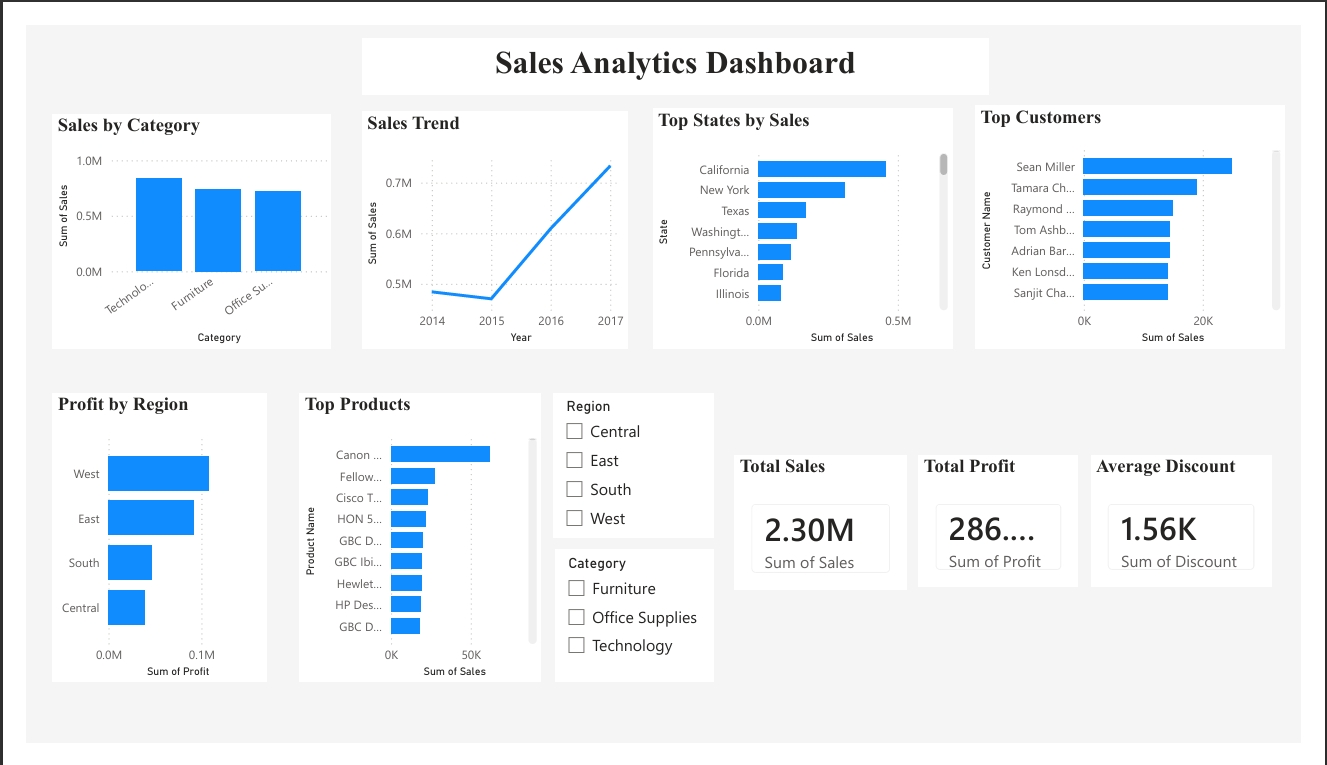

This screenshot's page, from the dashboard's own definition file:
{"tool":"powerbi","page":{"name":"Page 1","canvas":[1280,720],"ordinal":0},"visuals":[{"type":"clusteredColumnChart","title":"Sales by Category","fields":{"Category":["cleaned_superstore.Category"],"Y":["Sum(cleaned_superstore.Sales)"]},"box":[25.7,88.6,280,235.7],"z":0},{"type":"barChart","title":"Profit by Region","fields":{"Category":["cleaned_superstore.Region"],"Y":["Sum(cleaned_superstore.Profit)"]},"box":[25.7,368.6,215.7,290],"z":1},{"type":"lineChart","title":"Sales Trend","fields":{"Category":["cleaned_superstore.Order Date.Variation.Date Hierarchy.Year","cleaned_superstore.Order Date.Variation.Date Hierarchy.Quarter","cleaned_superstore.Order Date.Variation.Date Hierarchy.Month","cleaned_superstore.Order Date.Variation.Date Hierarchy.Day"],"Y":["Sum(cleaned_superstore.Sales)"]},"box":[337.1,85.7,267.1,238.6],"z":2},{"type":"barChart","title":"Top Customers","fields":{"Category":["cleaned_superstore.Customer Name"],"Y":["Sum(cleaned_superstore.Sales)"]},"box":[952.9,80,311.4,244.3],"z":3},{"type":"barChart","title":"Top States by Sales","fields":{"Category":["cleaned_superstore.State"],"Y":["Sum(cleaned_superstore.Sales)"]},"box":[628.6,82.9,301.4,241.4],"z":4},{"type":"slicer","fields":{"Values":["cleaned_superstore.Region"]},"box":[528.6,368.6,161.4,145.7],"z":5},{"type":"slicer","fields":{"Values":["cleaned_superstore.Category"]},"box":[531.4,525.7,158.6,132.9],"z":6},{"type":"barChart","title":"Top Products","fields":{"Category":["cleaned_superstore.Product Name"],"Y":["Sum(cleaned_superstore.Sales)"]},"box":[274.3,368.6,242.9,290],"z":7},{"type":"cardVisual","title":"Total Sales","fields":{"Data":["Sum(cleaned_superstore.Sales)"]},"box":[711.4,431.4,172.9,134.3],"z":8},{"type":"cardVisual","title":"Total Profit","fields":{"Data":["Sum(cleaned_superstore.Profit)"]},"box":[895.7,431.4,160,131.4],"z":9},{"type":"cardVisual","title":"Average Discount","fields":{"Data":["Sum(cleaned_superstore.Discount)"]},"box":[1068.6,431.4,181.4,131.4],"z":11},{"type":"textbox","box":[337.1,12.9,628.6,57.1],"z":12}]}

Visuals, with their boxes in screenshot pixels (x1, y1, x2, y2), scaled from the page's 1280x720 canvas onto the 1327x765 screenshot:
"Sales by Category" clusteredColumnChart: (27, 94, 317, 345)
"Profit by Region" barChart: (27, 392, 250, 700)
"Sales Trend" lineChart: (349, 91, 626, 345)
"Top Customers" barChart: (988, 85, 1311, 345)
"Top States by Sales" barChart: (652, 88, 964, 345)
slicer - cleaned_superstore.Region: (548, 392, 715, 546)
slicer - cleaned_superstore.Category: (551, 559, 715, 700)
"Top Products" barChart: (284, 392, 536, 700)
"Total Sales" cardVisual: (738, 458, 917, 601)
"Total Profit" cardVisual: (929, 458, 1094, 598)
"Average Discount" cardVisual: (1108, 458, 1296, 598)
textbox: (349, 14, 1001, 74)
